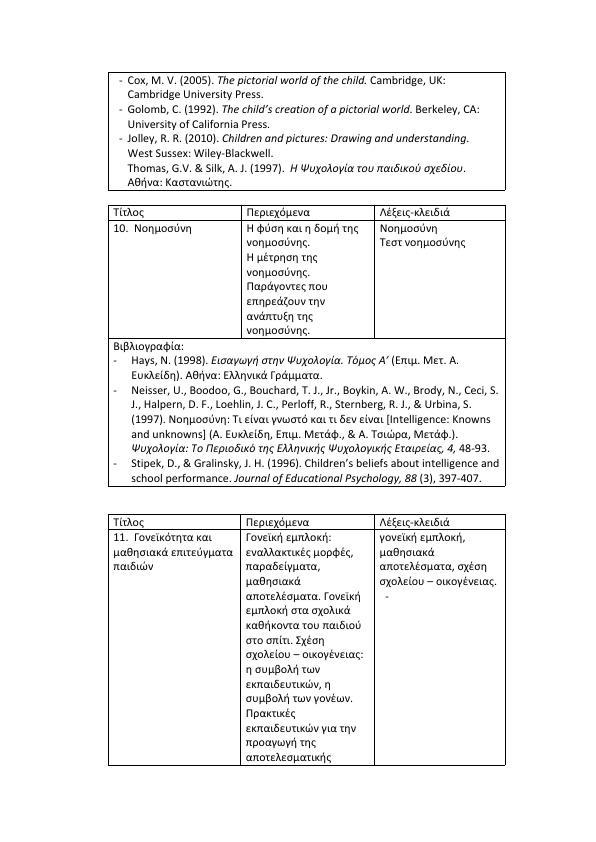table: (109, 204, 506, 486), (107, 513, 506, 767), (108, 72, 506, 190)
